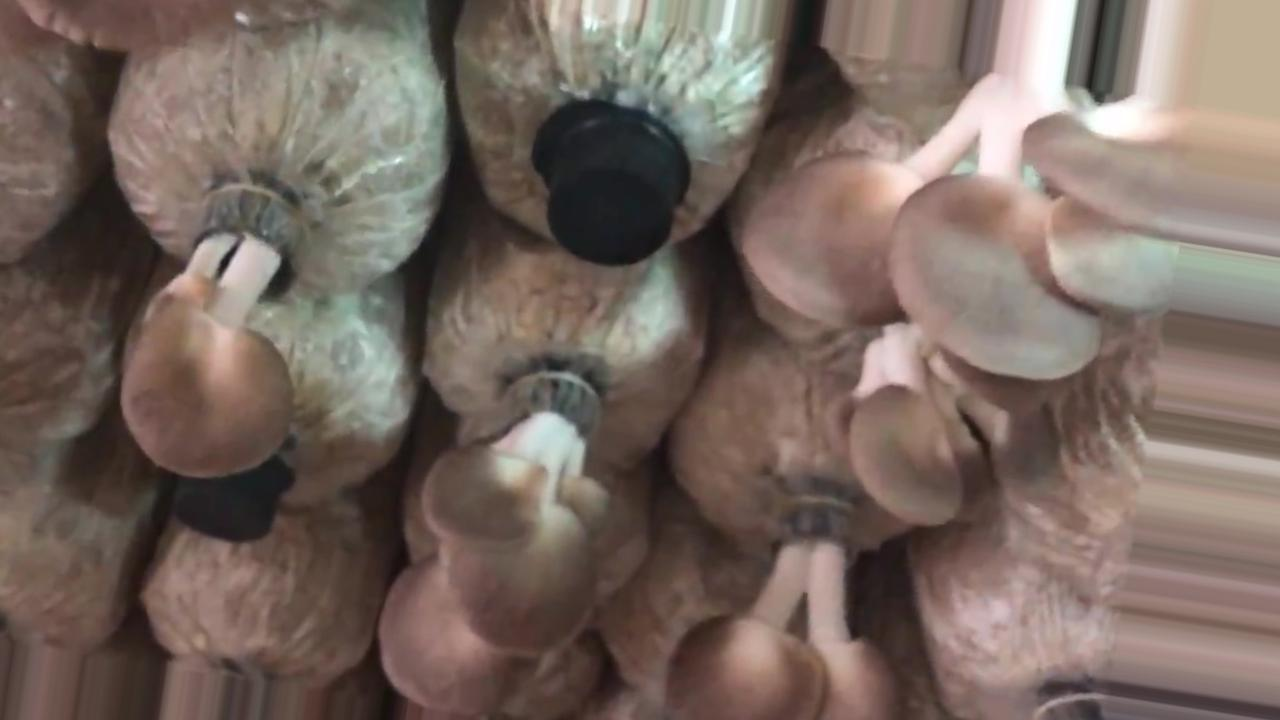nam: (738, 1, 1275, 379), (381, 372, 614, 713), (121, 192, 314, 477), (668, 495, 890, 719), (823, 324, 1042, 530)
